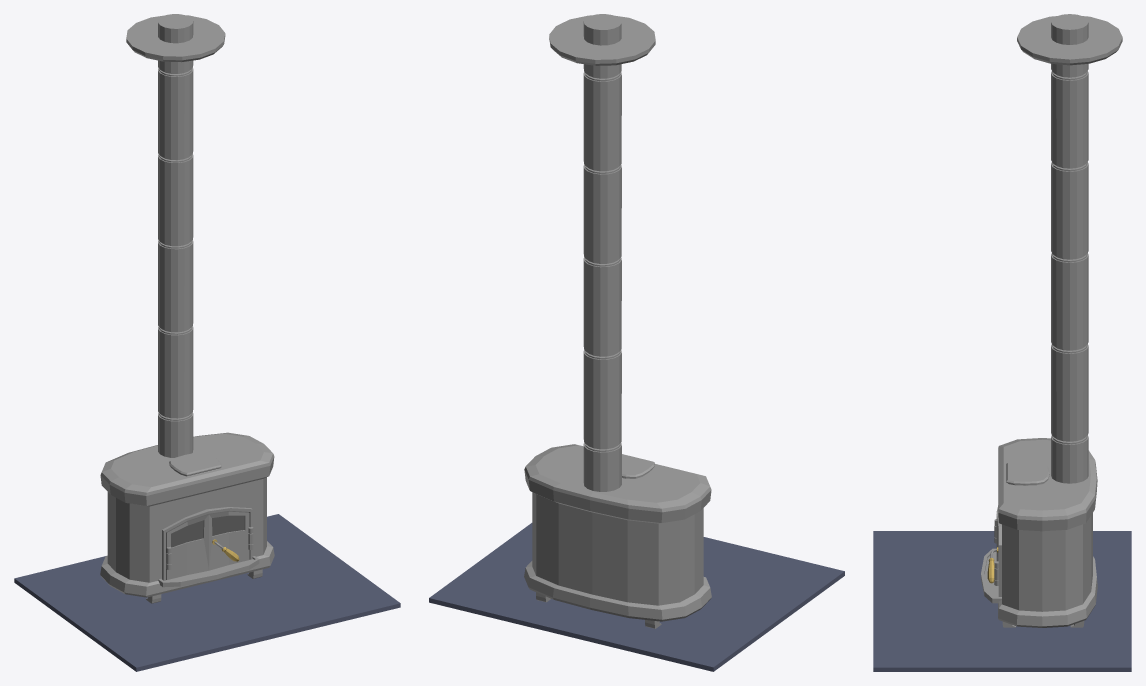
The model's file is pechka.fbx.
The picture shows the model from 3 angles, left to right: view 1: azimuth 30°, elevation 25°; view 2: azimuth 150°, elevation 25°; view 3: azimuth 270°, elevation 25°; orthographic projection. The views are drawn at different scales.
Visible parts, largest first — view 1: pechka, kovric, thingOnTheTop; view 2: pechka, kovric, thingOnTheTop; view 3: pechka, kovric, thingOnTheTop.
Part boxes in pixels (x1,y1,x2,y2): pechka: (100,14,274,603); kovric: (14,514,400,671); thingOnTheTop: (126,15,225,62); pechka: (524,14,711,628); kovric: (429,523,844,671); thingOnTheTop: (549,15,655,65); pechka: (981,14,1097,627); kovric: (873,531,1131,671); thingOnTheTop: (1017,16,1122,65).
Size of the model in its own units: 156 by 310 by 125.
